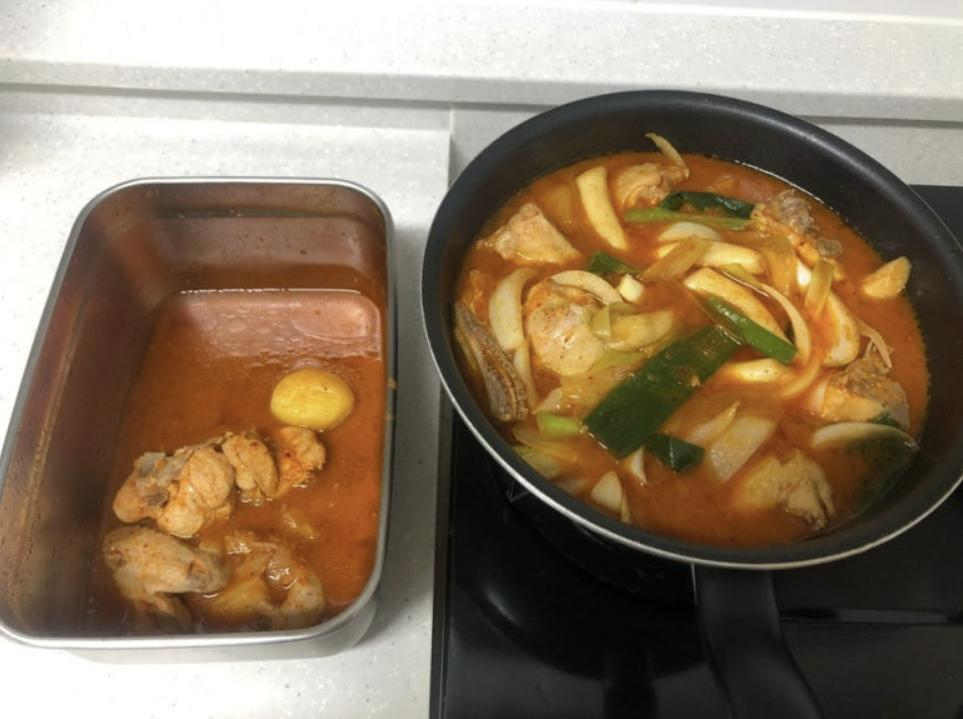Lunch Box: (422, 91, 962, 567), (0, 178, 396, 662)
